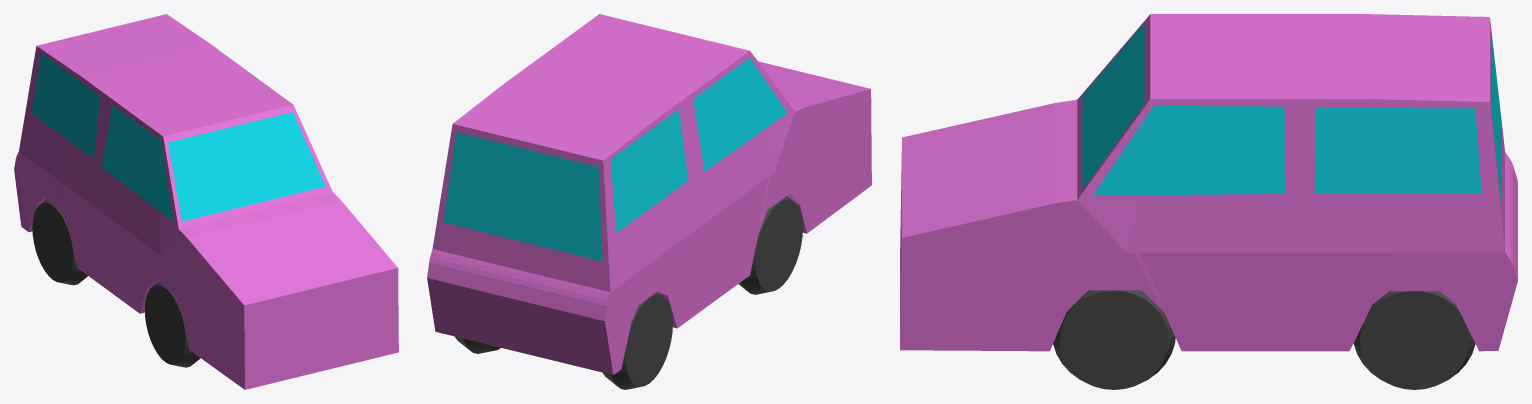
The model's file is PinkVan.fbx.
3 renders of one model, left to right at view 1: azimuth 30°, elevation 25°; view 2: azimuth 150°, elevation 25°; view 3: azimuth 270°, elevation 25°, orthographic. The views are drawn at different scales.
Parts seen in each view (by area): view 1: Cube, Plane, Plane.003, Plane.005, Cylinder, Cylinder.001; view 2: Cube, Plane.001, Plane.003, Plane.005, Cylinder.001, Cylinder; view 3: Cube, Plane.002, Plane.004, Cylinder, Cylinder.001, Plane, Plane.001.
Boxes of the visible parts, x1=… form: Cube: x1=14, y1=14, x2=398, y2=389; Plane: x1=168, y1=112, x2=325, y2=221; Plane.003: x1=102, y1=105, x2=173, y2=221; Plane.005: x1=31, y1=53, x2=100, y2=158; Cylinder: x1=144, y1=282, x2=200, y2=367; Cylinder.001: x1=32, y1=200, x2=87, y2=285; Cube: x1=427, y1=14, x2=871, y2=374; Plane.001: x1=443, y1=132, x2=602, y2=261; Plane.003: x1=693, y1=58, x2=787, y2=171; Plane.005: x1=610, y1=109, x2=688, y2=232; Cylinder.001: x1=455, y1=291, x2=672, y2=389; Cylinder: x1=738, y1=196, x2=802, y2=294; Cube: x1=900, y1=14, x2=1517, y2=351; Plane.002: x1=1093, y1=106, x2=1284, y2=195; Plane.004: x1=1314, y1=107, x2=1481, y2=194; Cylinder: x1=1053, y1=290, x2=1175, y2=389; Cylinder.001: x1=1353, y1=291, x2=1475, y2=389; Plane: x1=1082, y1=23, x2=1144, y2=189; Plane.001: x1=1491, y1=29, x2=1501, y2=212.
Size of the model in its own units: 7057 by 9532 by 18311.
